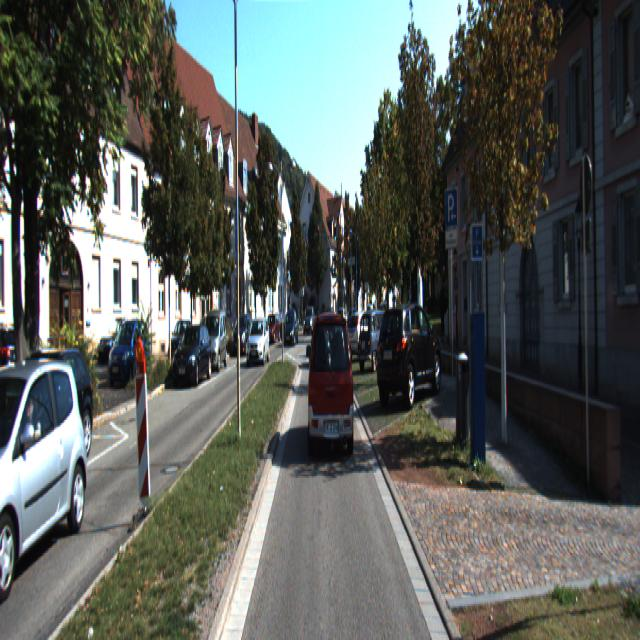Car: (0, 349, 93, 605), (0, 346, 95, 494), (374, 300, 444, 408), (309, 311, 356, 461), (106, 320, 150, 387), (172, 322, 212, 389), (356, 307, 396, 373), (98, 318, 144, 368), (200, 310, 228, 375), (345, 310, 381, 359), (247, 314, 270, 366), (231, 313, 255, 356), (261, 313, 283, 344), (284, 308, 300, 346), (304, 306, 314, 335)
